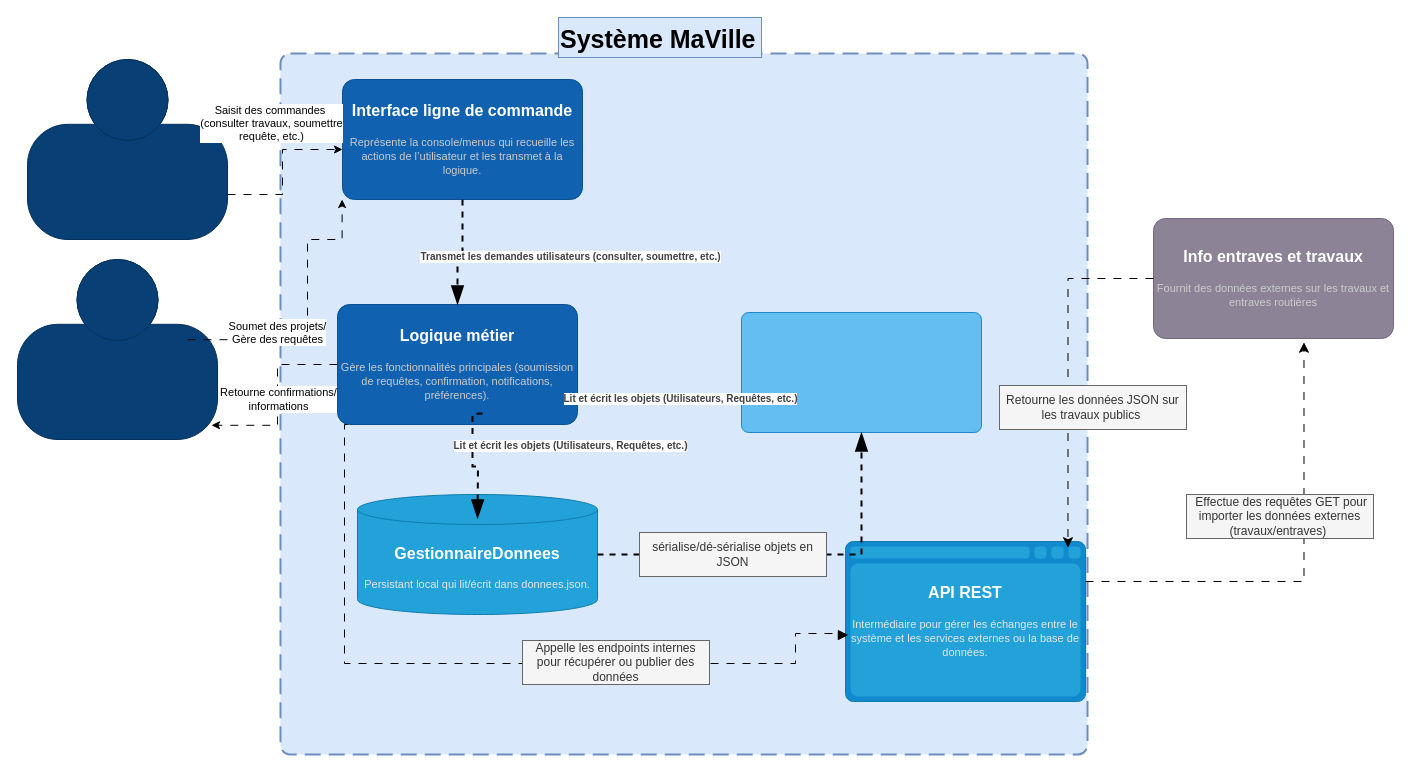
This 1411x773 diagram has some shape labels left out. Here are the shapes that lost their labels. From the top down, the centre of each, then its label:
At [127,149]: "Résident [Personne]".
At [117,349]: "Intervenant [Personne]".
At [861,372]: "fichier JSON Stockage local des utilisateurs, requêtes, projets, etc.".
